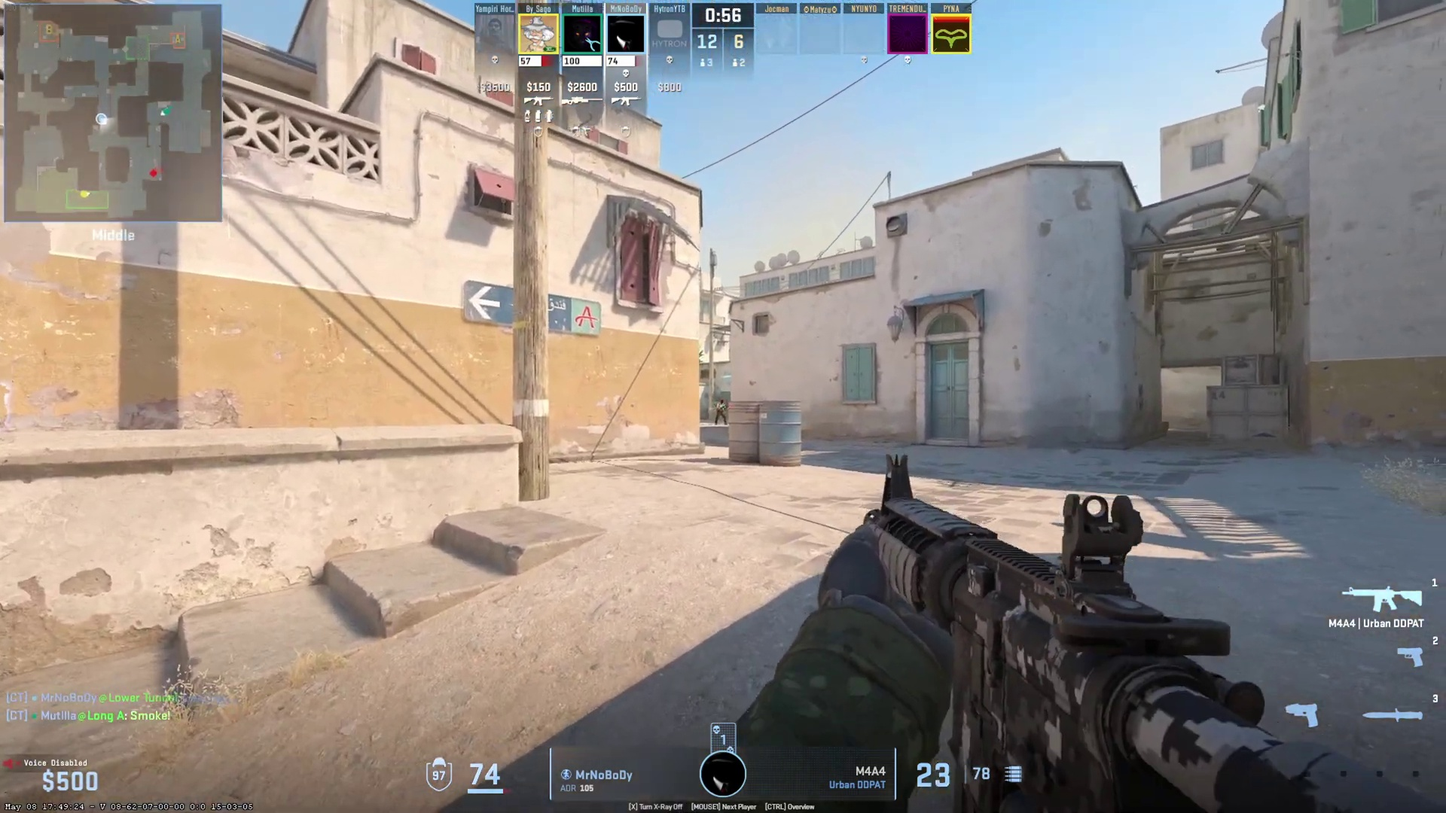Terrorist: (715, 399, 727, 425)
